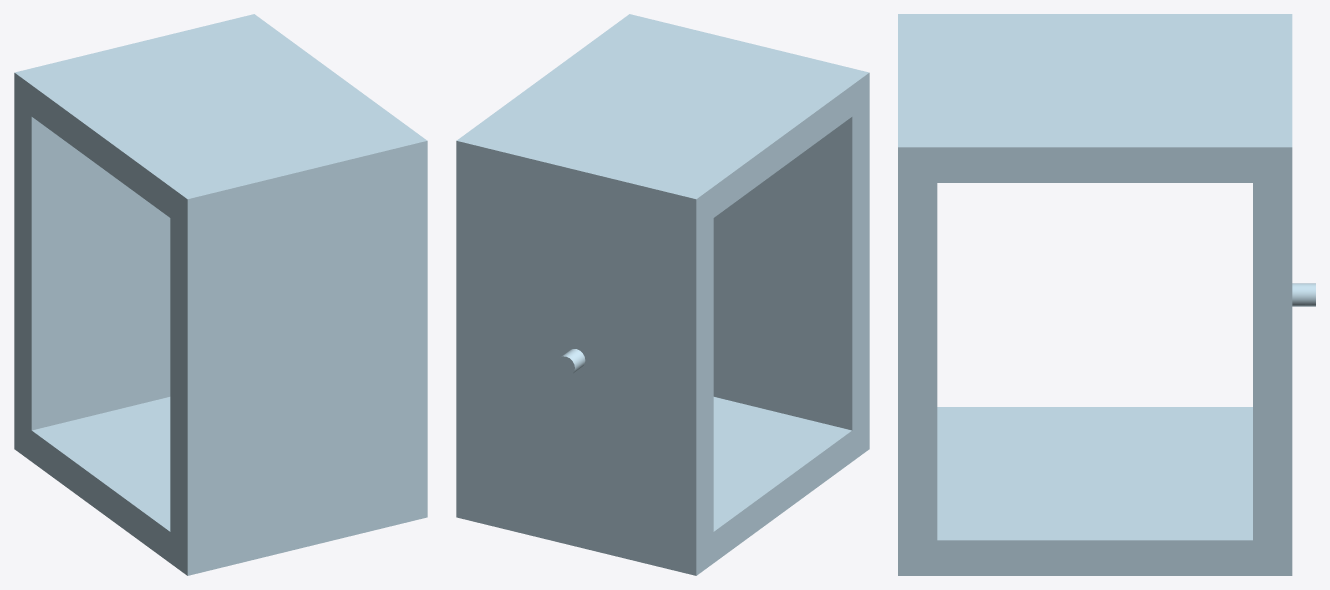
Rendered from X Carriage.gltf.
The picture shows the model from 3 angles, left to right: view 1: azimuth 30°, elevation 25°; view 2: azimuth 150°, elevation 25°; view 3: azimuth 270°, elevation 25°; orthographic projection. The views are drawn at different scales.
Visible parts, largest first — view 1: mesh49, mesh50, mesh55, mesh52, mesh56; view 2: mesh47, mesh50, mesh53, mesh52, mesh56; view 3: mesh51, mesh50, mesh56, mesh46.
Boxes of the visible parts, x1,y1,x2,y2 form: mesh49: [187, 141, 427, 575]; mesh50: [14, 14, 427, 199]; mesh55: [31, 117, 170, 430]; mesh52: [14, 73, 187, 575]; mesh56: [32, 397, 170, 531]; mesh47: [456, 141, 696, 575]; mesh50: [456, 14, 869, 199]; mesh53: [713, 117, 852, 430]; mesh52: [696, 73, 869, 575]; mesh56: [713, 397, 851, 531]; mesh51: [898, 147, 1292, 575]; mesh50: [898, 14, 1292, 147]; mesh56: [937, 407, 1252, 540]; mesh46: [1292, 283, 1315, 306].
Bounding box in the file's own units: 0.04 × 0.06 × 0.053.
